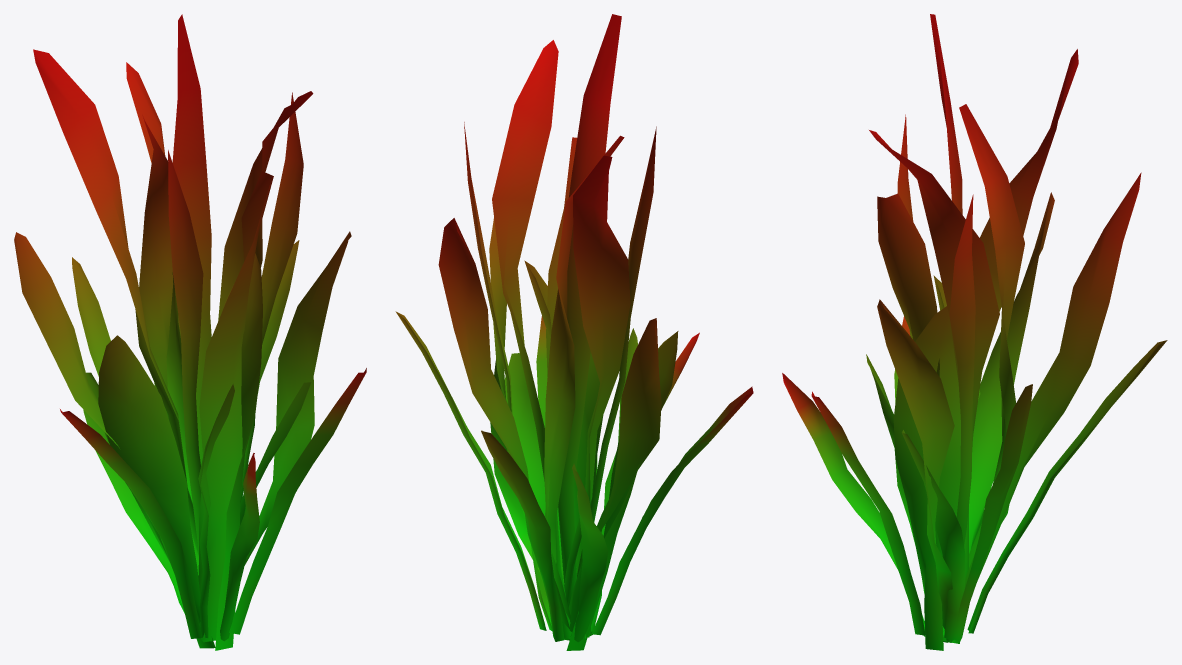
The model's file is Snake Plant_LOD1_Var8_sgtmY.fbx.
3 views of the same model, side by side, from view 1: azimuth 30°, elevation 25°; view 2: azimuth 150°, elevation 25°; view 3: azimuth 270°, elevation 25° (orthographic). The views are drawn at different scales.
Parts seen in each view (by area): view 1: _3cc9_Var8_LOD1; view 2: _3cc9_Var8_LOD1; view 3: _3cc9_Var8_LOD1.
Part boxes in pixels (x1,y1,x2,y2): _3cc9_Var8_LOD1: (14,14,366,650); _3cc9_Var8_LOD1: (395,14,753,650); _3cc9_Var8_LOD1: (782,14,1167,650).
Bounding box in the file's own units: 56.91 × 117 × 66.21.
